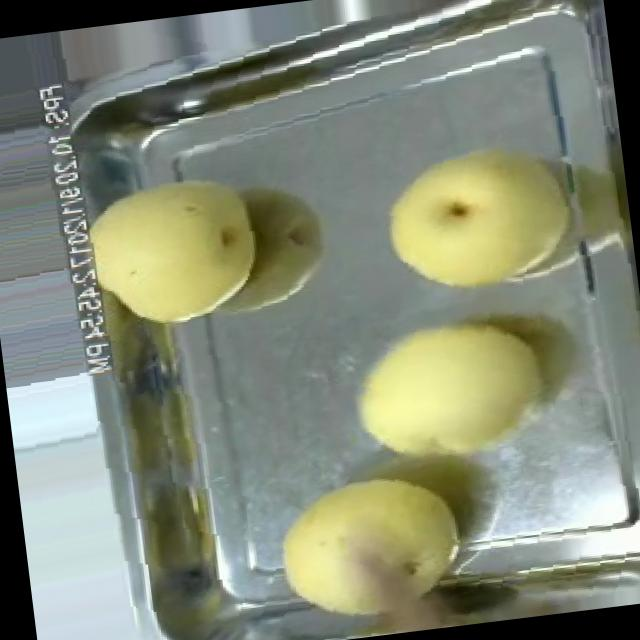Fruit: (362, 122, 586, 316), (332, 294, 562, 482), (257, 456, 480, 640), (80, 157, 276, 341)
